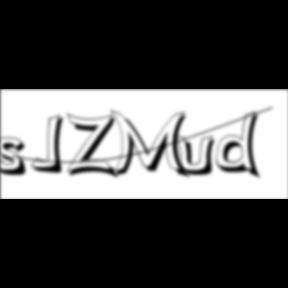J: (32, 114, 70, 176)
M: (110, 108, 194, 181)
Z: (66, 112, 122, 181)
d: (216, 110, 266, 182)
s: (0, 137, 34, 179)
u: (174, 132, 222, 178)
